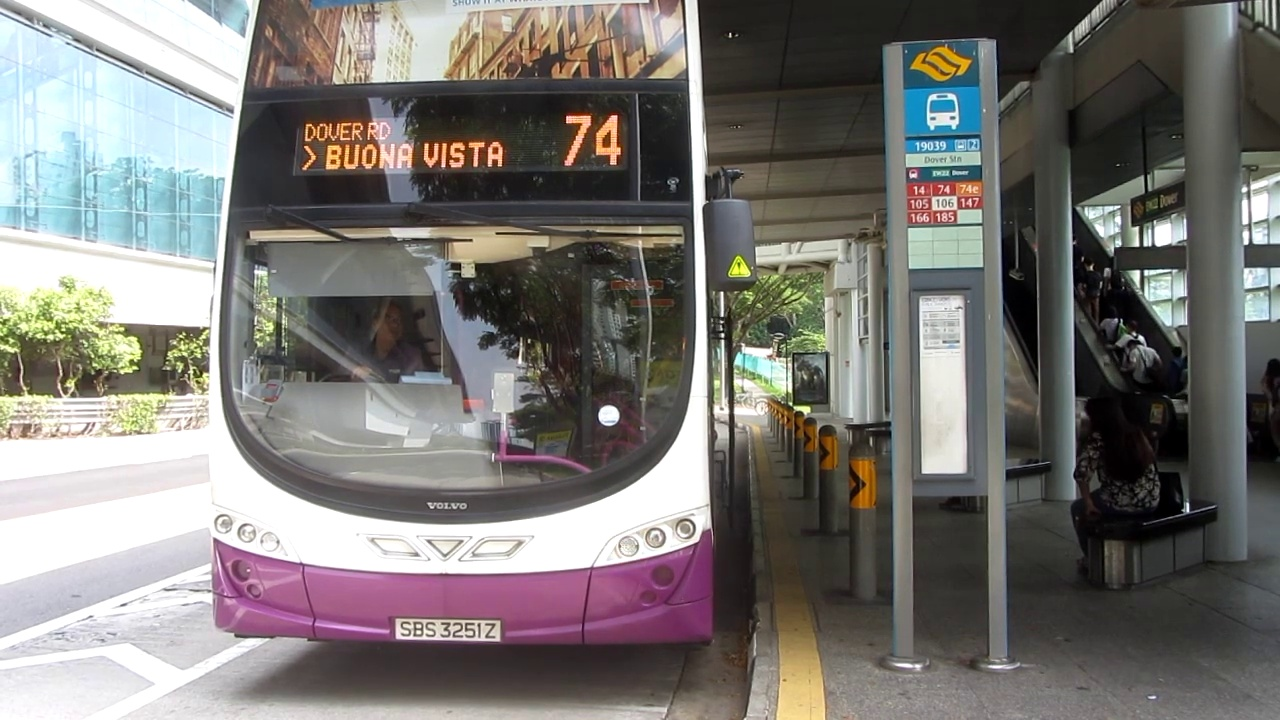bus panel: (290, 109, 631, 179)
